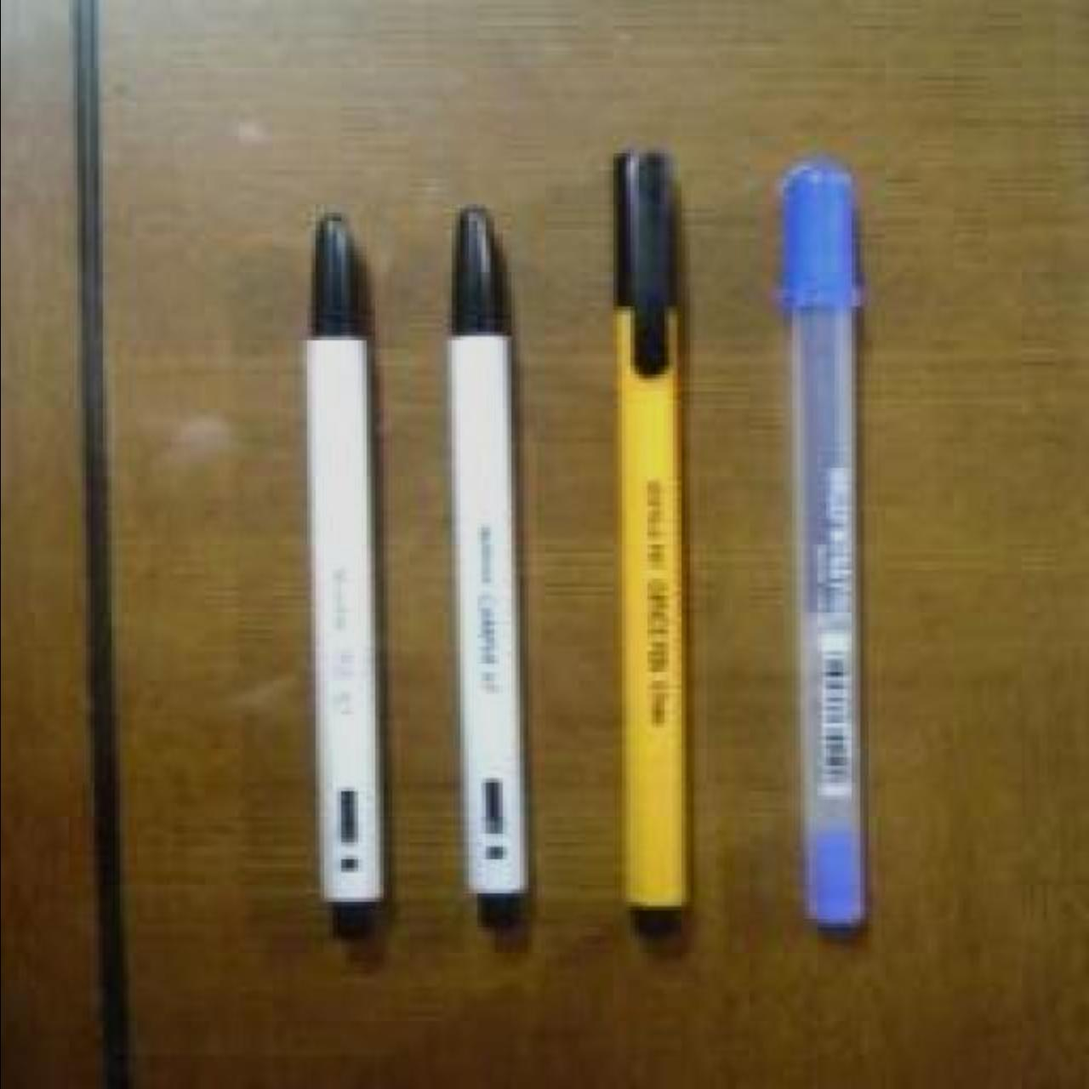pen: (432, 204, 539, 944), (301, 218, 383, 938)
